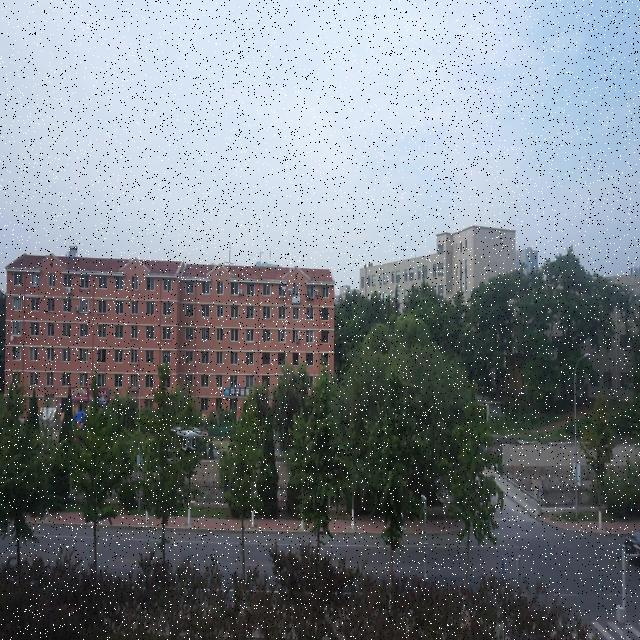UAV: (171, 427, 208, 451)
